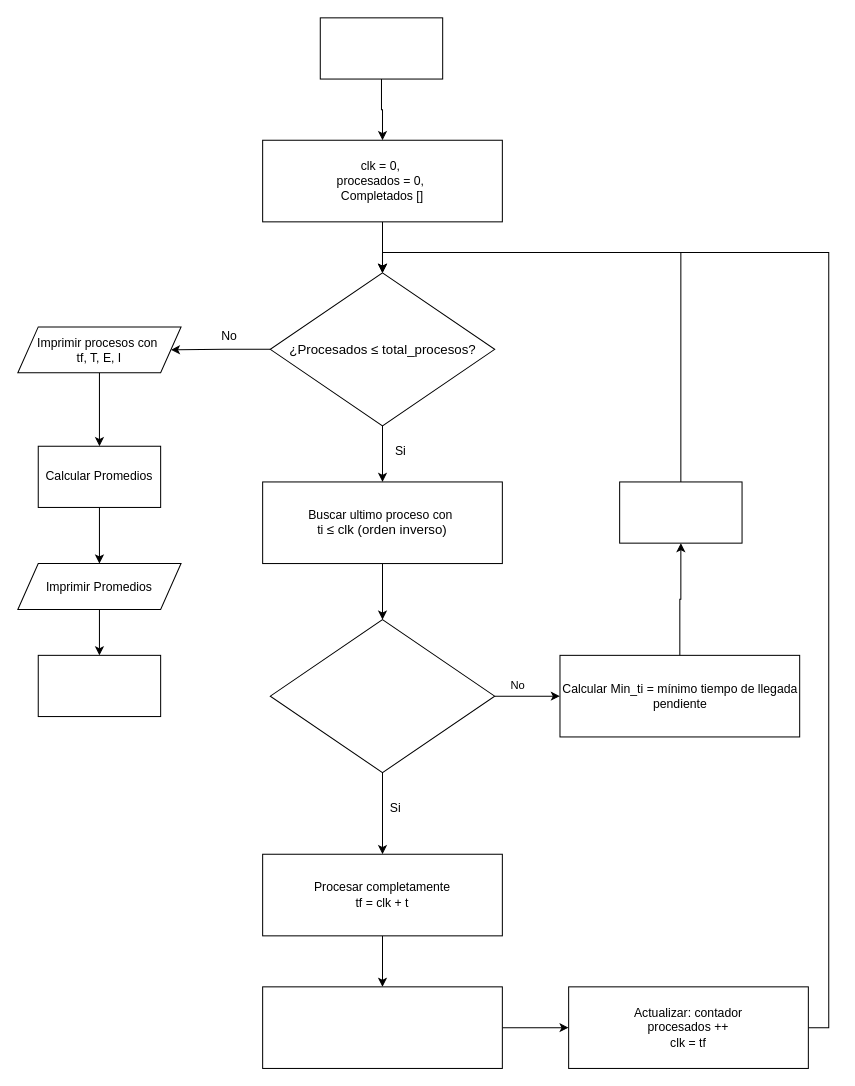
Image size: 855x1086. Some labels were removed from this diagram. Here are the shapes that lost their labels. From the top down, the box of each, then its label:
(319, 17, 443, 79): INICIO - LIFO
(619, 481, 742, 543): clk = min_ti
(37, 654, 161, 717): FIN LIFO
(269, 619, 495, 773): ¿Se encontró proceso ?
(262, 986, 502, 1068): Calcular: T = tf - ti E = T - t I = t / T
